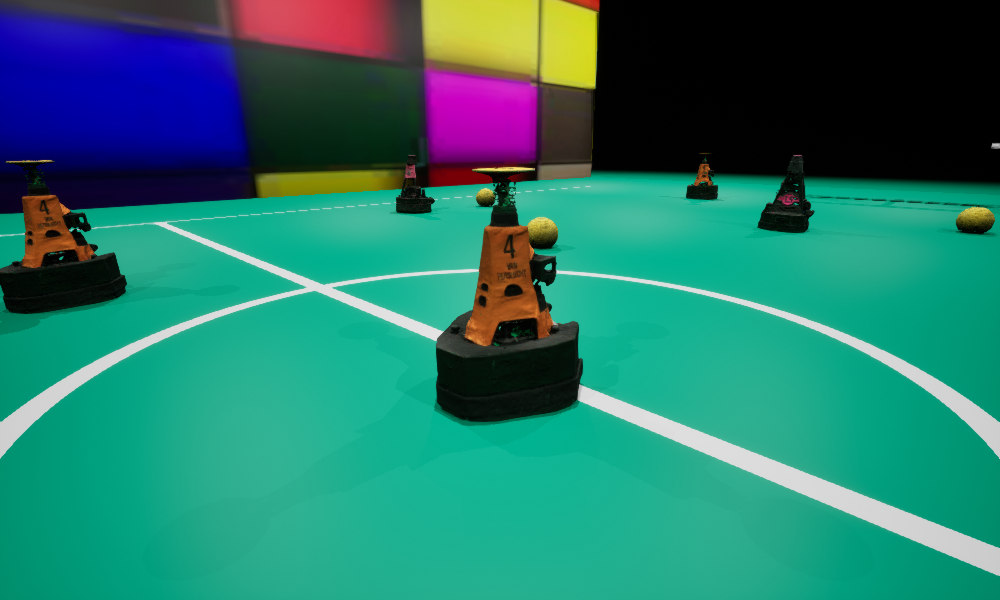b: (956, 207, 994, 232), (527, 217, 557, 248), (476, 188, 494, 205)
o: (436, 167, 582, 421), (0, 160, 126, 313), (686, 153, 717, 199)
p1: (758, 155, 814, 232)
p2: (396, 155, 434, 213)
